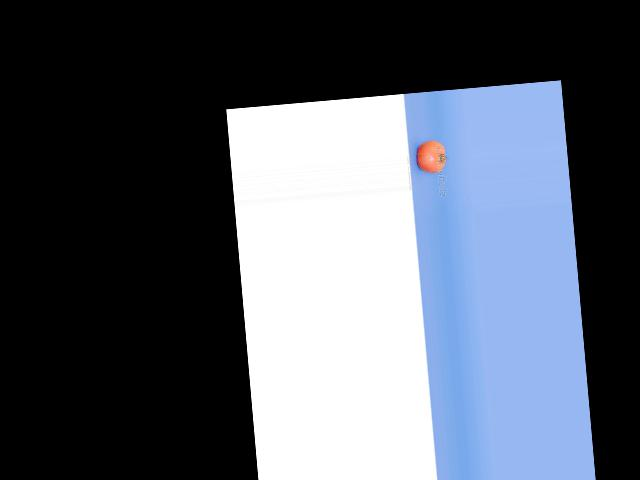tomato: (415, 138, 446, 173)
